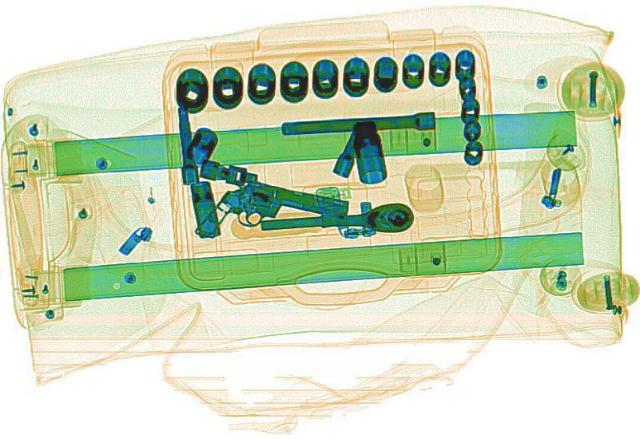Gun: (190, 171, 354, 262)
